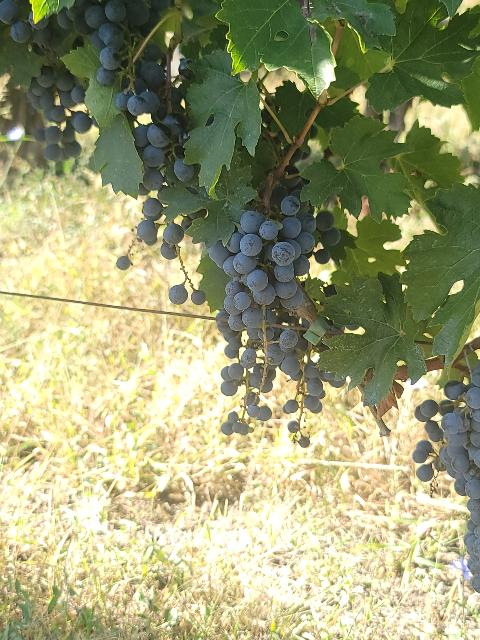grapes: (208, 196, 340, 330), (411, 361, 480, 592), (126, 62, 196, 192)
